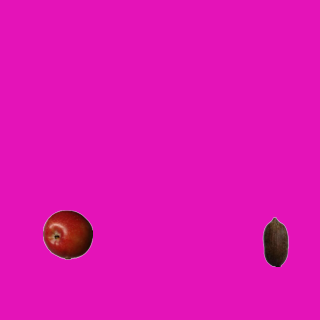Apple Braeburn: (42, 209, 92, 259)
Nut Pecan: (250, 216, 300, 266)
